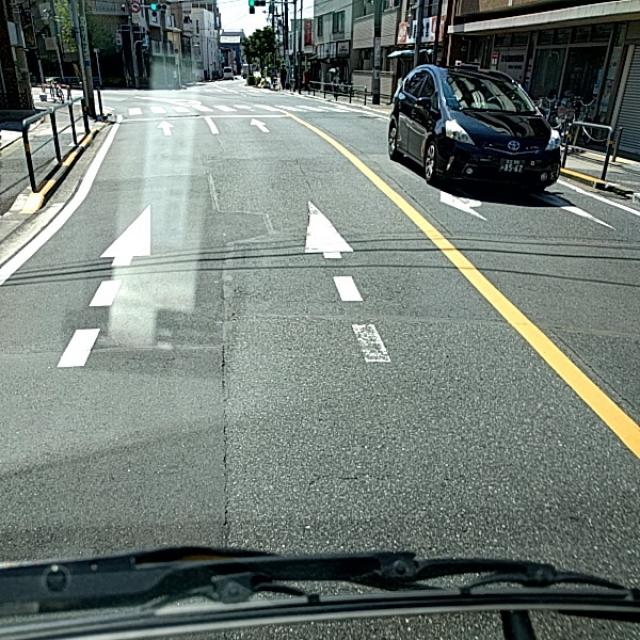pothole: (191, 349, 277, 482)
